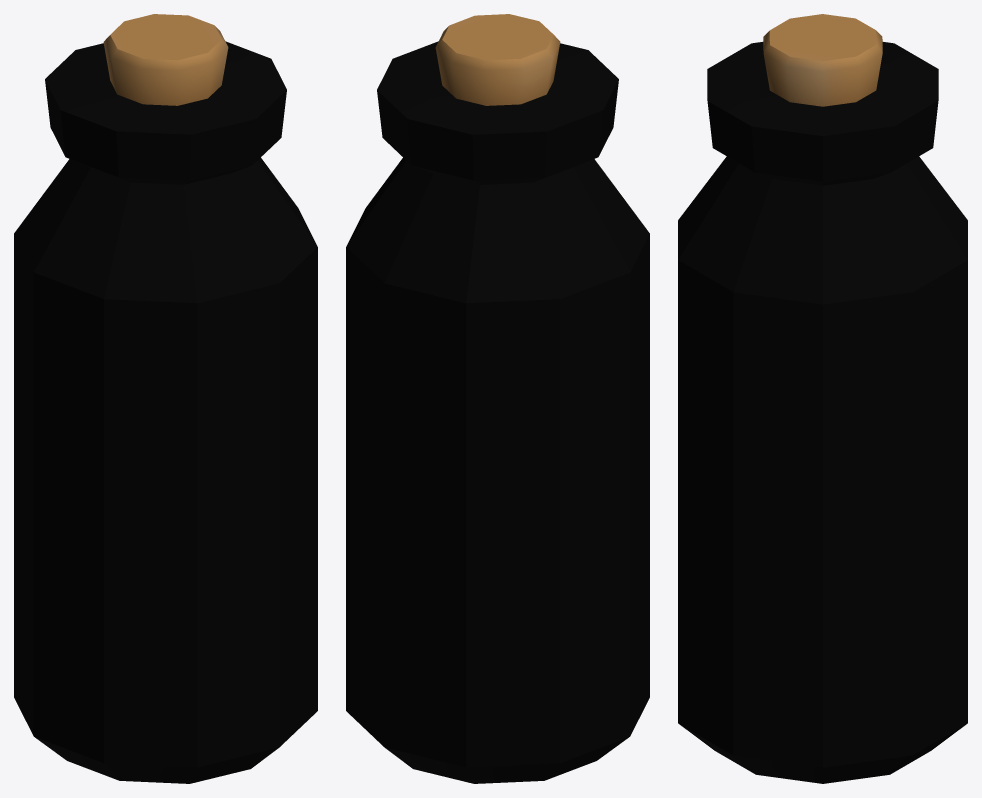
Rendered from potion blue.FBX.
The picture shows the model from 3 angles, left to right: view 1: azimuth 30°, elevation 25°; view 2: azimuth 150°, elevation 25°; view 3: azimuth 270°, elevation 25°; orthographic projection.
Visible parts, largest first — view 1: Sphere003; view 2: Sphere003; view 3: Sphere003.
Part boxes in pixels (x1=…): Sphere003: x1=14, y1=14, x2=317, y2=783; Sphere003: x1=346, y1=14, x2=649, y2=783; Sphere003: x1=678, y1=14, x2=967, y2=783.
Bounding box in the file's own units: 16.34 × 15.54 × 41.3.
